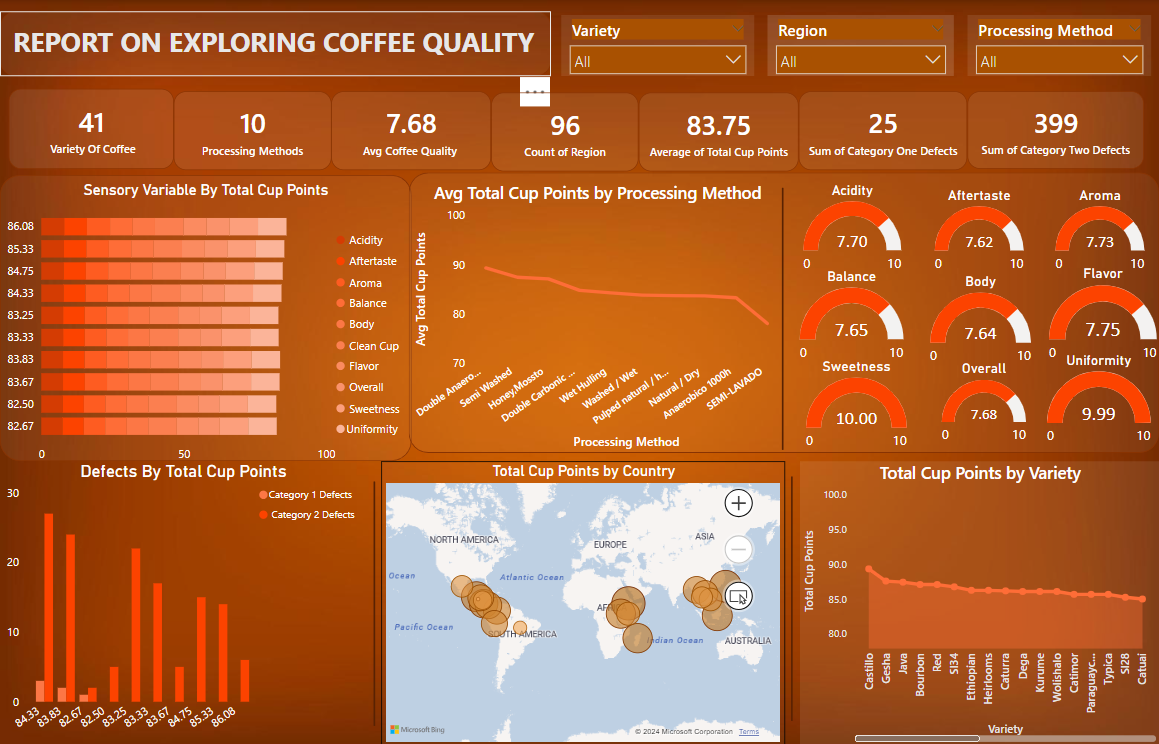

Layout of this report page (visuals, bound fields, positions):
{"tool":"powerbi","page":{"name":"Page 1","canvas":[1400,900],"ordinal":0},"visuals":[{"type":"textbox","box":[11.1,23.8,654.1,58.7],"z":0},{"type":"shape","box":[0,12.9,665.6,78.8],"z":1000},{"type":"card","fields":{"Values":["Count(df_arabica_clean (2).Variety)"]},"box":[10.6,107.1,199.1,96.5],"z":2000},{"type":"card","fields":{"Values":["Count(df_arabica_clean (2).Processing Method)"]},"box":[209.6,110.1,190,95],"z":3000},{"type":"card","fields":{"Values":["Avg(df_arabica_clean (2).Overall)"]},"box":[399.6,110.1,193,95],"z":4000},{"type":"card","fields":{"Values":["Count(df_arabica_clean (2).Region)"]},"box":[592.7,111.6,177.9,95],"z":5000},{"type":"shape","box":[0,211.7,496.7,345],"z":6000},{"type":"slicer","fields":{"Values":["df_arabica_clean (2).Variety"]},"box":[676.9,17.7,233.1,74],"z":7000},{"type":"shape","box":[493.3,208.3,905,338.3],"z":8000},{"type":"lineChart","fields":{"Category":["df_arabica_clean (2).Processing Method"],"Y":["Avg(df_arabica_clean (2).Total Cup Points)"]},"box":[496.7,218.3,450,328.3],"z":9000},{"type":"shape","box":[926.7,226.7,36.7,316.7],"z":10000},{"type":"slicer","fields":{"Values":["df_arabica_clean (2).Region"]},"box":[926,17.7,225.1,74],"z":13000},{"type":"slicer","fields":{"Values":["df_arabica_clean (2).Processing Method"]},"box":[1167.2,17.7,221.9,74],"z":15000},{"type":"shape","box":[443.4,580.6,16.6,295.6],"z":17000},{"type":"card","fields":{"Values":["Avg(df_arabica_clean (2).Total Cup Points)"]},"box":[770.6,111.6,193,95],"z":18000},{"type":"card","fields":{"Values":["Sum(df_arabica_clean (2).Category One Defects)"]},"box":[963.6,110.1,203.6,95],"z":19000},{"type":"card","fields":{"Values":["Sum(df_arabica_clean (2).Category Two Defects)"]},"box":[1167.2,110.1,212.6,93.5],"z":20000},{"type":"shape","box":[947.1,574.6,16.6,295.6],"z":22000},{"type":"areaChart","fields":{"Category":["df_arabica_clean (2).Variety"],"Y":["Max(df_arabica_clean (2).Total Cup Points)"]},"box":[965.5,555.7,434.9,343.8],"z":23000},{"type":"barChart","title":"Sensory  Variable By Total Cup Points","fields":{"Y":["Avg(df_arabica_clean (2).Acidity)","Avg(df_arabica_clean (2).Aftertaste)","Avg(df_arabica_clean (2).Aroma)","Avg(df_arabica_clean (2).Balance)","Avg(df_arabica_clean (2).Body)","Avg(df_arabica_clean (2).Clean Cup)","Avg(df_arabica_clean (2).Flavor)","Avg(df_arabica_clean (2).Overall)","Avg(df_arabica_clean (2).Sweetness)","Avg(df_arabica_clean (2).Uniformity)"],"Category":["df_arabica_clean (2).Total Cup Points"]},"box":[0,218.3,496.7,348.3],"z":23001},{"type":"clusteredColumnChart","title":"Defects By Total Cup Points","fields":{"Y":["Sum(df_arabica_clean (2).Category One Defects)","Sum(df_arabica_clean (2).Category Two Defects)"],"Category":["df_arabica_clean (2).Total Cup Points"]},"box":[0,556.4,442.7,344.3],"z":23002},{"type":"map","title":" Total Cup Points by Country ","fields":{"Category":["df_arabica_clean (2).Country of Origin"],"Size":["Avg(df_arabica_clean (2).Total Cup Points)"]},"box":[459.6,556.4,487.3,344.3],"z":23003},{"type":"gauge","title":" Acidity","fields":{"Y":["Avg(df_arabica_clean (2).Acidity)"],"MaxValue":["df_arabica_clean (2).Target"],"MinValue":["df_arabica_clean (2).min"]},"box":[950,218.3,156.7,120],"z":23004,"group":"g1"},{"type":"gauge","title":" Aftertaste","fields":{"Y":["Avg(df_arabica_clean (2).Aftertaste)"],"MinValue":["df_arabica_clean (2).min"],"MaxValue":["df_arabica_clean (2).Max"]},"box":[1101.7,223.8,158.3,114.5],"z":23005,"group":"g1"},{"type":"gauge","title":" Aroma","fields":{"Y":["Avg(df_arabica_clean (2).Aroma)"],"MinValue":["df_arabica_clean (2).min"],"MaxValue":["df_arabica_clean (2).Max"]},"box":[1255,223.8,145,114.5],"z":23006,"group":"g1"},{"type":"group","id":"g1","title":"Group 1","box":[950,218.3,450,120],"z":23007},{"type":"gauge","title":" Balance","fields":{"Y":["Avg(df_arabica_clean (2).Balance)"],"MinValue":["df_arabica_clean (2).min"],"MaxValue":["df_arabica_clean (2).Max"]},"box":[950,323.3,155,123.3],"z":23008},{"type":"gauge","title":" Body","fields":{"Y":["Avg(df_arabica_clean (2).Body)"],"MinValue":["df_arabica_clean (2).min"],"MaxValue":["df_arabica_clean (2).Max"]},"box":[1101.7,328.3,161.7,121.7],"z":23009},{"type":"gauge","title":" Flavor","fields":{"Y":["Avg(df_arabica_clean (2).Flavor)"],"MinValue":["df_arabica_clean (2).min"],"MaxValue":["df_arabica_clean (2).Max"]},"box":[1260,320,140,126.7],"z":23010},{"type":"gauge","title":"Sweetness","fields":{"Y":["Avg(df_arabica_clean (2).Sweetness)"],"MinValue":["df_arabica_clean (2).min"],"MaxValue":["df_arabica_clean (2).Max"]},"box":[950,431.7,166.7,121.7],"z":23011},{"type":"gauge","title":"Overall","fields":{"Y":["Avg(df_arabica_clean (2).Overall)"],"MinValue":["df_arabica_clean (2).min"],"MaxValue":["df_arabica_clean (2).Max"]},"box":[1111.7,435,151.7,111.7],"z":23012},{"type":"gauge","title":"Uniformity","fields":{"MinValue":["df_arabica_clean (2).min"],"MaxValue":["df_arabica_clean (2).Max"],"Y":["Avg(df_arabica_clean (2).Uniformity)"]},"box":[1251.7,423.3,148.3,123.3],"z":23013}]}

Visuals, with their boxes in screenshot pixels (x1, y1, x2, y2), scaled from the page's 1400x900 canvas onto the 1159x744 screenshot:
textbox: locate(9, 20, 551, 68)
shape: locate(0, 11, 551, 76)
card - Count(df_arabica_clean (2).Variety): locate(9, 89, 174, 168)
card - Count(df_arabica_clean (2).Processing Method): locate(174, 91, 331, 170)
card - Avg(df_arabica_clean (2).Overall): locate(331, 91, 491, 170)
card - Count(df_arabica_clean (2).Region): locate(491, 92, 638, 171)
shape: locate(0, 175, 411, 460)
slicer - df_arabica_clean (2).Variety: locate(560, 15, 753, 76)
shape: locate(408, 172, 1158, 452)
lineChart - df_arabica_clean (2).Processing Method x Avg(df_arabica_clean (2).Total Cup Points): locate(411, 180, 784, 452)
shape: locate(767, 187, 798, 449)
slicer - df_arabica_clean (2).Region: locate(767, 15, 953, 76)
slicer - df_arabica_clean (2).Processing Method: locate(966, 15, 1150, 76)
shape: locate(367, 480, 381, 724)
card - Avg(df_arabica_clean (2).Total Cup Points): locate(638, 92, 798, 171)
card - Sum(df_arabica_clean (2).Category One Defects): locate(798, 91, 966, 170)
card - Sum(df_arabica_clean (2).Category Two Defects): locate(966, 91, 1142, 168)
shape: locate(784, 475, 798, 719)
areaChart - df_arabica_clean (2).Variety x Max(df_arabica_clean (2).Total Cup Points): locate(799, 459, 1158, 743)
"Sensory  Variable By Total Cup Points" barChart: locate(0, 180, 411, 468)
"Defects By Total Cup Points" clusteredColumnChart: locate(0, 460, 366, 743)
" Total Cup Points by Country " map: locate(380, 460, 784, 743)
" Acidity" gauge: locate(786, 180, 916, 280)
" Aftertaste" gauge: locate(912, 185, 1043, 280)
" Aroma" gauge: locate(1039, 185, 1158, 280)
"Group 1" group: locate(786, 180, 1158, 280)
" Balance" gauge: locate(786, 267, 915, 369)
" Body" gauge: locate(912, 271, 1046, 372)
" Flavor" gauge: locate(1043, 265, 1158, 369)
"Sweetness" gauge: locate(786, 357, 924, 457)
"Overall" gauge: locate(920, 360, 1046, 452)
"Uniformity" gauge: locate(1036, 350, 1158, 452)
